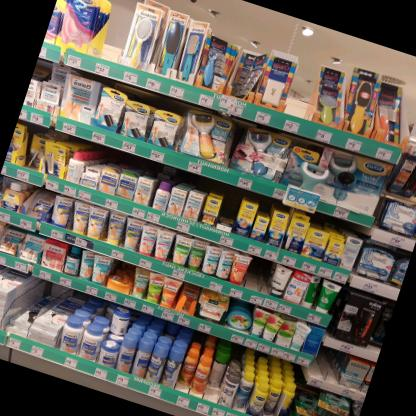empty_space: (96, 7, 135, 66), (284, 63, 321, 122), (241, 258, 270, 295), (308, 344, 332, 382), (323, 352, 346, 387)
